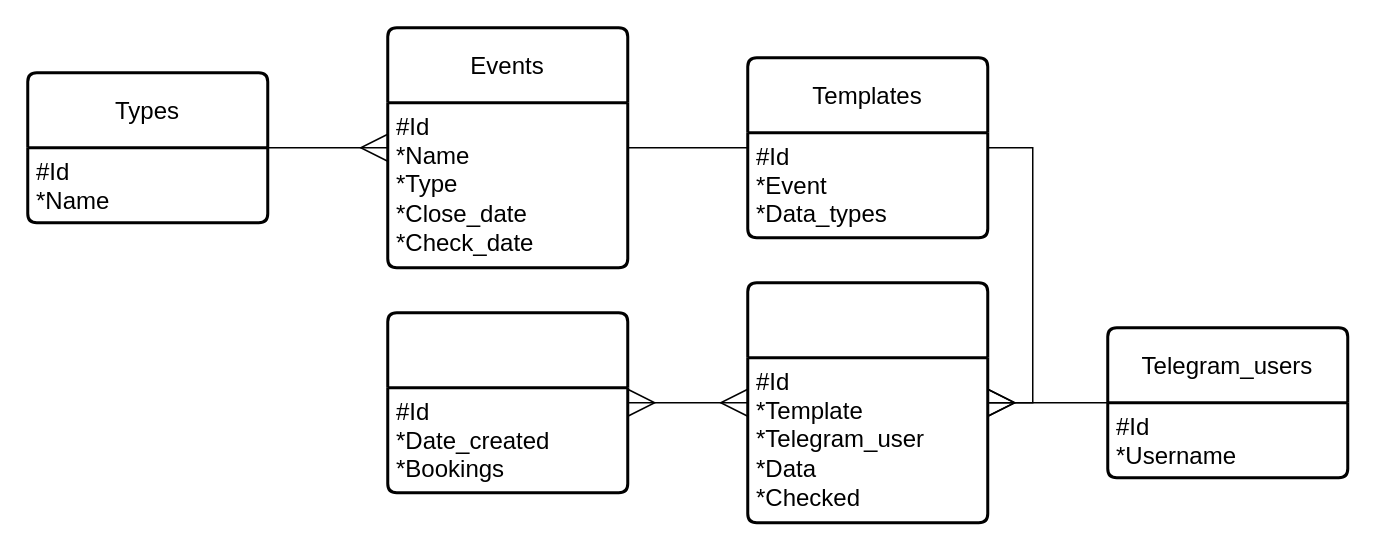
Some shapes in this 1374 by 549 pixel diagram are drawn without their labels. The shapes that lost their labels are listed below. From the top down, each one's box as (x1, y1, x2, y2) in pixels, then its label:
(386, 310, 628, 494): Reports
(746, 280, 988, 524): Bookings
